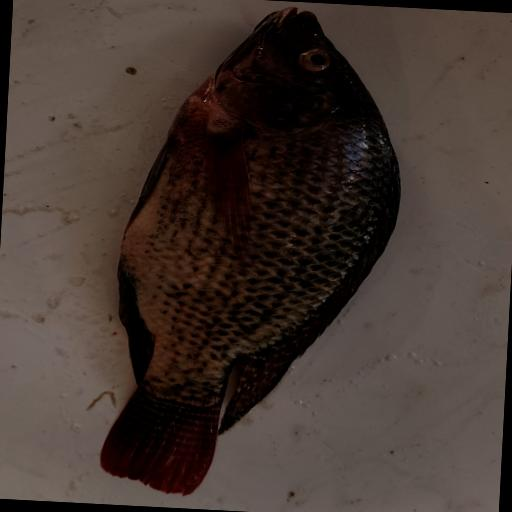Tilapia: (97, 0, 411, 507)
